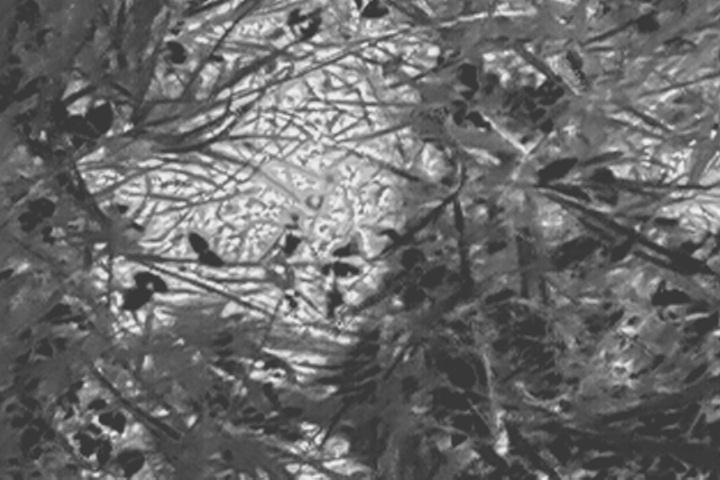landmine: (80, 51, 442, 324)
